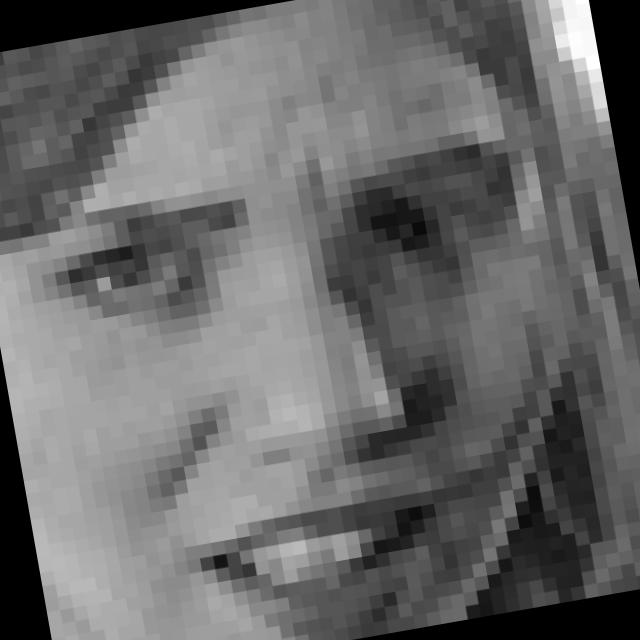disgust: (22, 122, 594, 640)
